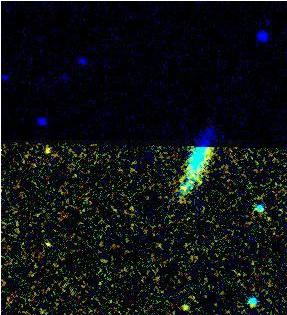star: (35, 136, 65, 166)
